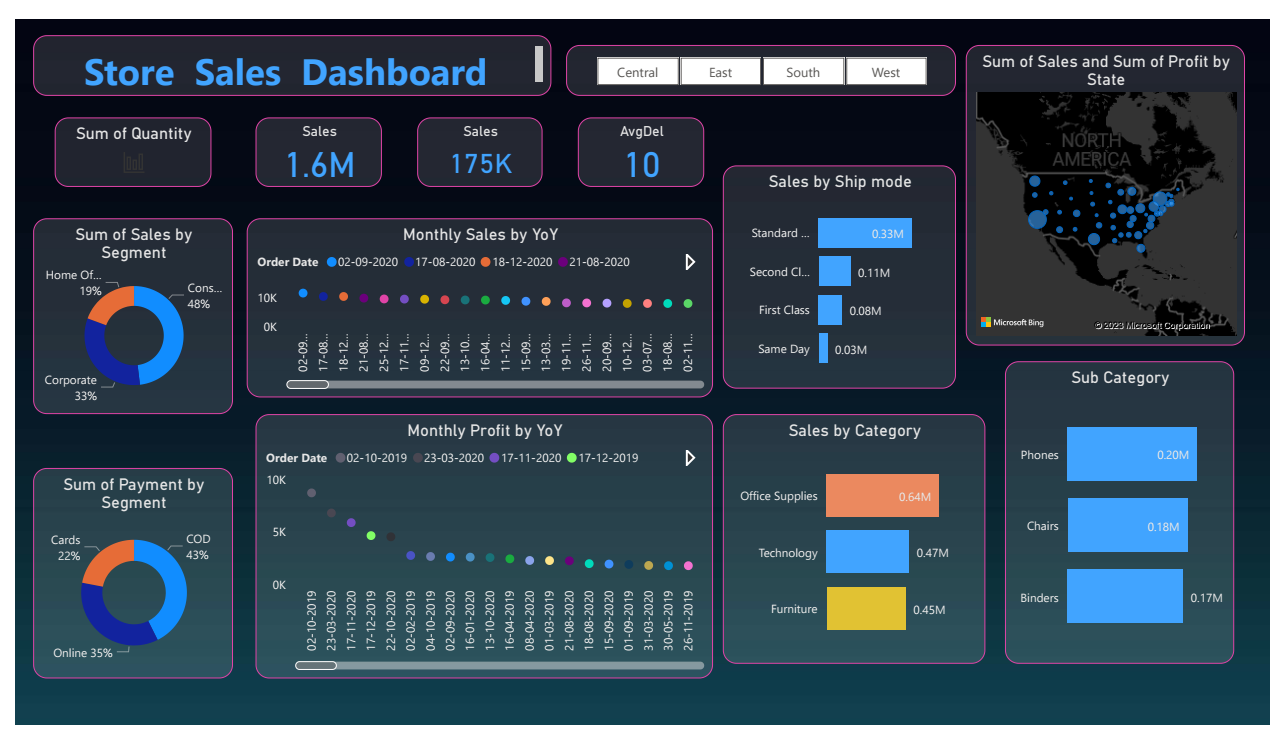

What the dashboard file says about the page in this screenshot:
{"tool":"powerbi","page":{"name":"Page 1","canvas":[1280,720],"ordinal":0},"visuals":[{"type":"clusteredBarChart","title":"Sub Category","fields":{"Category":["SuperStore_Sales_Dataset csv.Sub-Category"],"Y":["Sum(SuperStore_Sales_Dataset csv.Sales)"]},"box":[1009.6,349.3,234.2,308.2],"z":0},{"type":"clusteredBarChart","title":"Sales by Category","fields":{"Category":["SuperStore_Sales_Dataset csv.Category"],"Y":["Sum(SuperStore_Sales_Dataset csv.Sales)"]},"box":[721.9,402.7,268.5,254.8],"z":1000},{"type":"clusteredBarChart","title":"Sales by Ship mode","fields":{"Category":["SuperStore_Sales_Dataset csv.Ship Mode"],"Y":["Sum(SuperStore_Sales_Dataset csv.Sales)"]},"box":[721.9,149.3,238.4,227.4],"z":2000},{"type":"stackedAreaChart","title":"Monthly Sales  by YoY","fields":{"Category":["SuperStore_Sales_Dataset csv.Order Date"],"Y":["Sum(SuperStore_Sales_Dataset csv.Sales)"],"Series":["SuperStore_Sales_Dataset csv.Order Date"]},"box":[235.6,202.7,476.7,183.6],"z":3000},{"type":"stackedAreaChart","title":"Monthly Profit by YoY","fields":{"Category":["SuperStore_Sales_Dataset csv.Order Date"],"Series":["SuperStore_Sales_Dataset csv.Order Date"],"Y":["Sum(SuperStore_Sales_Dataset csv.Profit)"]},"box":[245.2,402.7,467.1,269.9],"z":4000},{"type":"map","fields":{"Category":["SuperStore_Sales_Dataset csv.State"],"Size":["Sum(SuperStore_Sales_Dataset csv.Sales)"]},"box":[969.9,26,284.9,306.8],"z":5000},{"type":"donutChart","fields":{"Category":["SuperStore_Sales_Dataset csv.Segment"],"Y":["Sum(SuperStore_Sales_Dataset csv.Sales)"]},"box":[17.8,202.7,204.1,200],"z":6000},{"type":"donutChart","title":"Sum of Payment  by Segment","fields":{"Category":["SuperStore_Sales_Dataset csv.Payment Mode"],"Y":["Sum(SuperStore_Sales_Dataset csv.Sales)"]},"box":[17.8,457.5,204.1,215.1],"z":7000},{"type":"slicer","fields":{"Values":["SuperStore_Sales_Dataset csv.Region"]},"box":[561.6,26,398.6,52.1],"z":8000},{"type":"textbox","box":[17.8,16.4,528.8,61.6],"z":9000},{"type":"card","title":"Sales","fields":{"Values":["Sum(SuperStore_Sales_Dataset csv.Sales)"]},"box":[245.2,100,128.8,71.2],"z":9001},{"type":"clusteredColumnChart","fields":{"Y":["Sum(SuperStore_Sales_Dataset csv.Quantity)"]},"box":[39.7,100,160.3,71.2],"z":9003},{"type":"card","title":"Sales","fields":{"Values":["Sum(SuperStore_Sales_Dataset csv.Profit)"]},"box":[409.6,100,128.8,71.2],"z":9004},{"type":"card","title":"AvgDel","fields":{"Values":["Avg(SuperStore_Sales_Dataset csv.AvgDelivery)"]},"box":[574,100,128.8,71.2],"z":9005}]}

Visuals, with their boxes in screenshot pixels (x1, y1, x2, y2), scaled from the page's 1280x720 canvas onto the 1287x742 screenshot:
"Sub Category" clusteredBarChart: [1015,360,1251,678]
"Sales by Category" clusteredBarChart: [726,415,996,678]
"Sales by Ship mode" clusteredBarChart: [726,154,966,388]
"Monthly Sales  by YoY" stackedAreaChart: [237,209,716,398]
"Monthly Profit by YoY" stackedAreaChart: [247,415,716,693]
map - SuperStore_Sales_Dataset csv.State x Sum(SuperStore_Sales_Dataset csv.Sales): [975,27,1262,343]
donutChart - SuperStore_Sales_Dataset csv.Segment x Sum(SuperStore_Sales_Dataset csv.Sales): [18,209,223,415]
"Sum of Payment  by Segment" donutChart: [18,471,223,693]
slicer - SuperStore_Sales_Dataset csv.Region: [565,27,965,80]
textbox: [18,17,550,80]
"Sales" card: [247,103,376,176]
clusteredColumnChart - Sum(SuperStore_Sales_Dataset csv.Quantity): [40,103,201,176]
"Sales" card: [412,103,541,176]
"AvgDel" card: [577,103,707,176]
